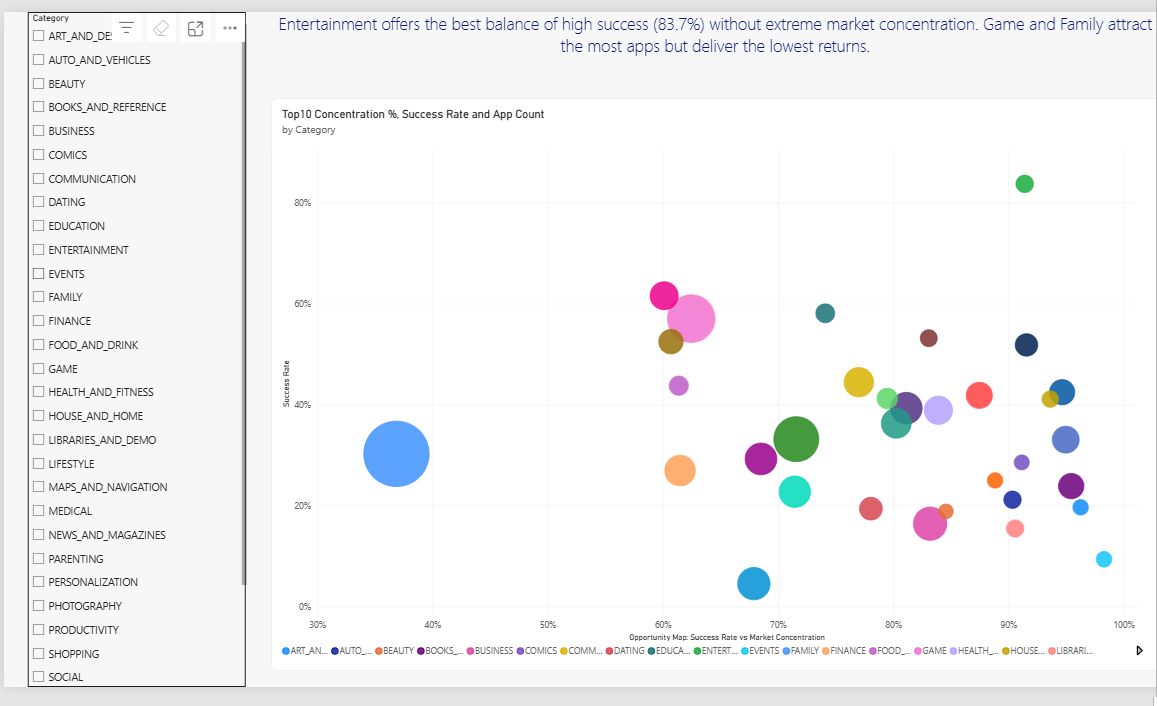

The dashboard page shown, as its layout file describes it:
{"tool":"powerbi","page":{"name":"Category Deep Dive","canvas":[1920,1080],"ordinal":1},"visuals":[{"type":"scatterChart","fields":{"Series":["APPS.Category"],"Size":["APPS.App Count"],"X":["APPS.Top10 Concentration %"],"Y":["APPS.Success Rate"]},"box":[428,138,1420,916],"z":0},{"type":"slicer","fields":{"Values":["APPS.Category"]},"box":[38,0,350,1080],"z":1},{"type":"textbox","box":[100,100,300,300],"z":2},{"type":"textbox","box":[428,0,1420,138],"z":3}]}

Visuals, with their boxes on the page's 1920x1080 design canvas (x1, y1, x2, y2). These are canvas units, not pixel positions in the 1157x706 screenshot, which may show the page scaled, cropped or inside an application window:
scatterChart - APPS.Category x APPS.App Count: box(428, 138, 1848, 1054)
slicer - APPS.Category: box(38, 0, 388, 1080)
textbox: box(100, 100, 400, 400)
textbox: box(428, 0, 1848, 138)
